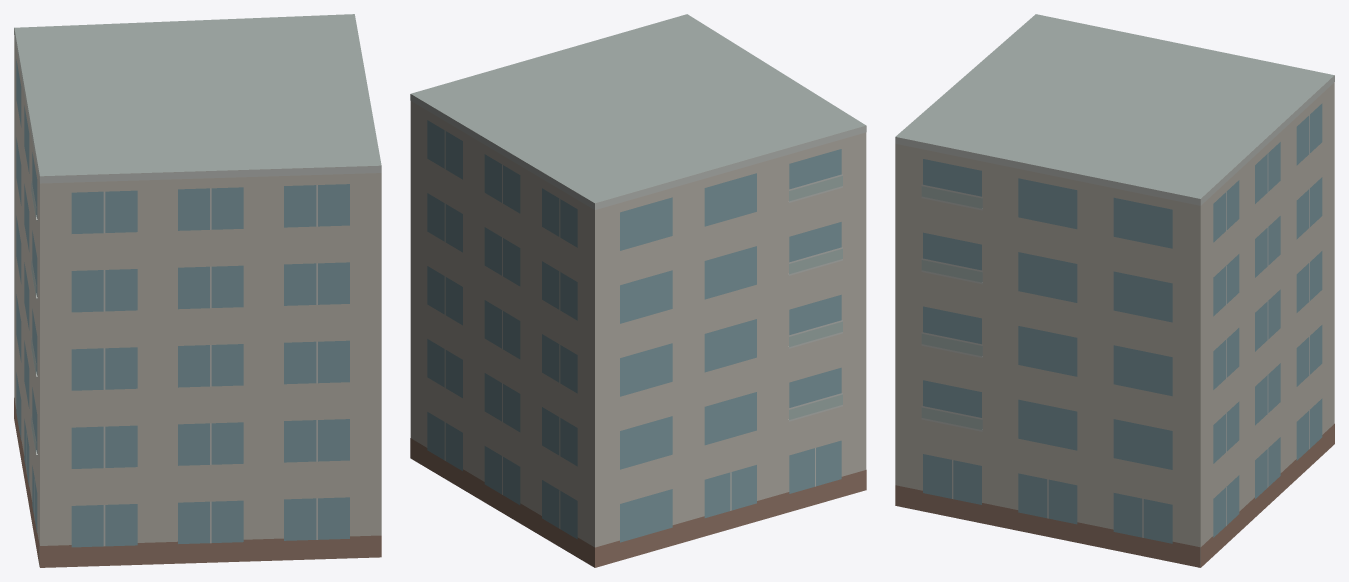
File: survey-upis-33004918.glb
3 views of the same model, side by side, from view 1: azimuth 30°, elevation 25°; view 2: azimuth 150°, elevation 25°; view 3: azimuth 270°, elevation 25° (orthographic). The views are drawn at different scales.
Parts seen in each view (by area): view 1: survey-upis-33004918.tmp; view 2: survey-upis-33004918.tmp; view 3: survey-upis-33004918.tmp.
Boxes of the visible parts, x1,y1,x2,y2 form: survey-upis-33004918.tmp: (14,14,381,567); survey-upis-33004918.tmp: (410,14,866,567); survey-upis-33004918.tmp: (895,14,1334,567).
Size of the model in its own units: 14.1 by 13.1 by 14.15.
